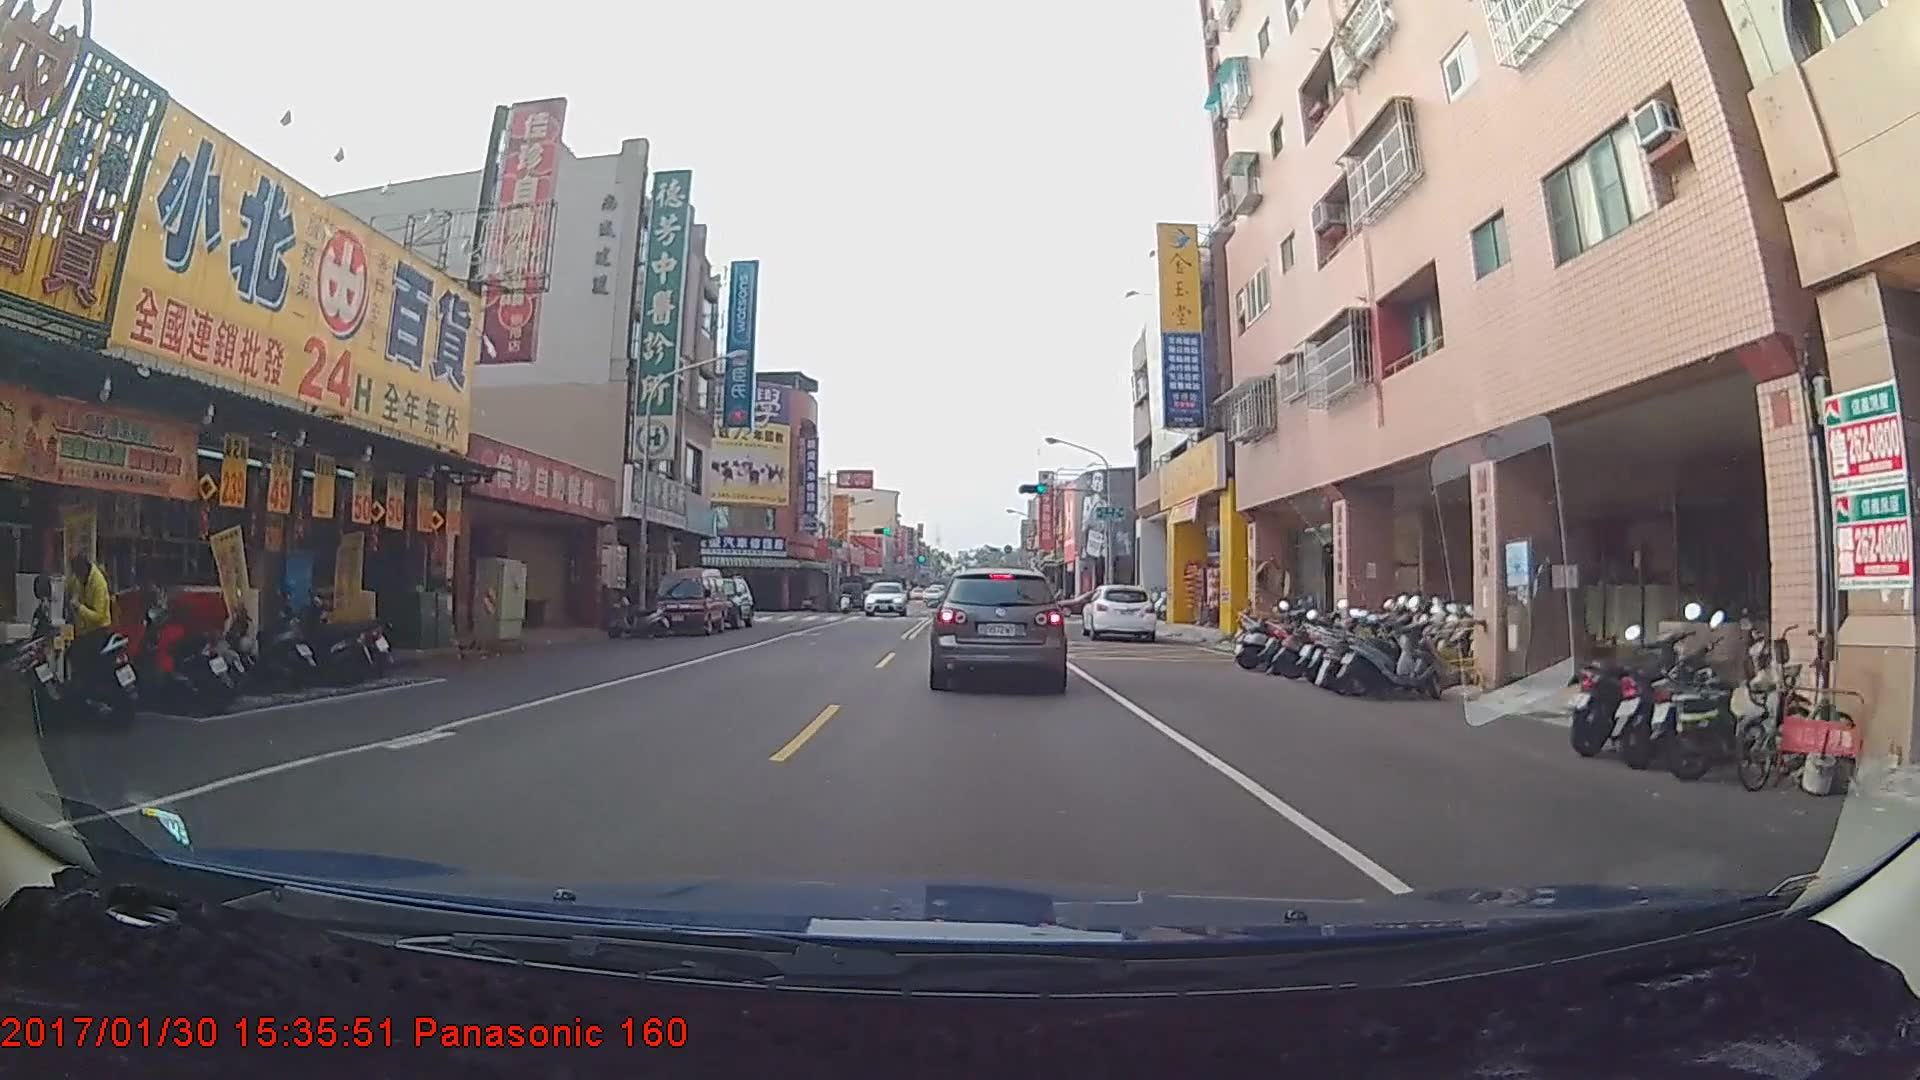pedestrian: (62, 547, 116, 724)
vehicle: (930, 566, 1067, 687), (650, 566, 727, 634), (1080, 584, 1156, 642), (689, 574, 754, 629), (863, 574, 898, 604)
